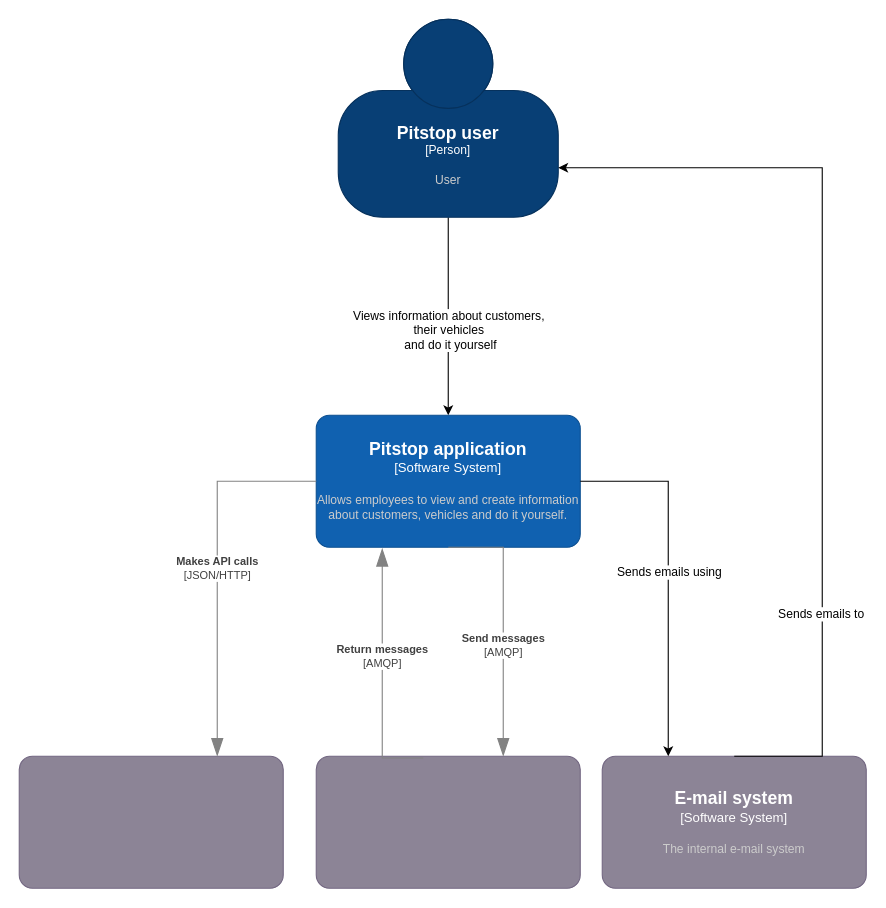
Image size: 886x908. Some labels were removed from this diagram. The shapes that lost their labels are listed below. From the top down, each one's centre as x and y in pixels, then its label:
the point at 150,821: Serilog [Software System] Seq is a real-time search and analysis server
the point at 447,821: RabbitMQ [Software System] The internal messagebroker
